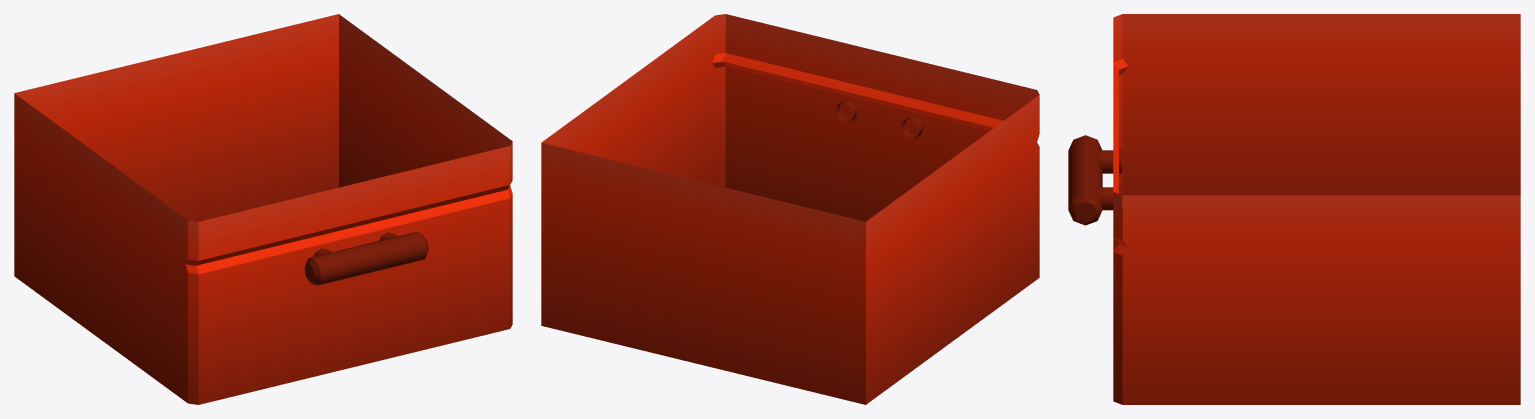
The model's file is Counter_01_v02_C04.fbx.
3 renders of one model, left to right at view 1: azimuth 30°, elevation 25°; view 2: azimuth 150°, elevation 25°; view 3: azimuth 270°, elevation 25°, orthographic. The views are drawn at different scales.
Visible parts, largest first — view 1: Counter_01_v02_C04; view 2: Counter_01_v02_C04; view 3: Counter_01_v02_C04.
Boxes of the visible parts, x1,y1,x2,y2 form: Counter_01_v02_C04: [14, 14, 512, 404]; Counter_01_v02_C04: [541, 14, 1039, 404]; Counter_01_v02_C04: [1068, 14, 1520, 404].
Bounding box in the file's own units: 100 × 53.91 × 105.
